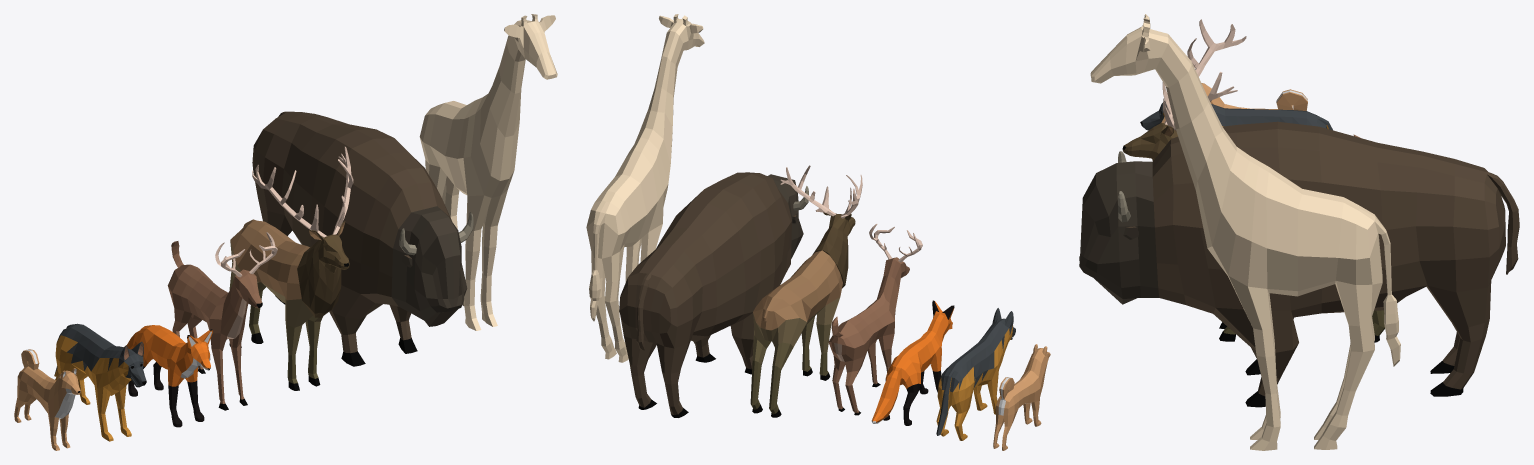
Rendered from animalsFree.fbx.
3 renders of one model, left to right at view 1: azimuth 30°, elevation 25°; view 2: azimuth 150°, elevation 25°; view 3: azimuth 270°, elevation 25°, orthographic. The views are drawn at different scales.
Visible parts, largest first — view 1: 04bizonFinal, 18girafFinal, 09deerFinal, 05deerFinal, 25dogFinal, 01foxFinal, 19dogFinal; view 2: 04bizonFinal, 18girafFinal, 09deerFinal, 05deerFinal, 25dogFinal, 01foxFinal, 19dogFinal; view 3: 04bizonFinal, 18girafFinal, 09deerFinal, 25dogFinal, 19dogFinal.
Part boxes in pixels (bbox=[...]): 04bizonFinal: bbox=[252, 111, 473, 366]; 18girafFinal: bbox=[419, 14, 557, 330]; 09deerFinal: bbox=[229, 146, 353, 390]; 05deerFinal: bbox=[167, 232, 277, 410]; 25dogFinal: bbox=[54, 323, 146, 441]; 01foxFinal: bbox=[124, 325, 212, 427]; 19dogFinal: bbox=[14, 349, 80, 450]; 04bizonFinal: bbox=[619, 172, 808, 417]; 18girafFinal: bbox=[586, 14, 704, 362]; 09deerFinal: bbox=[750, 165, 862, 417]; 05deerFinal: bbox=[828, 224, 922, 415]; 25dogFinal: bbox=[936, 308, 1015, 440]; 01foxFinal: bbox=[871, 300, 954, 425]; 19dogFinal: bbox=[993, 344, 1050, 450]; 04bizonFinal: bbox=[1079, 121, 1519, 407]; 18girafFinal: bbox=[1090, 14, 1400, 450]; 09deerFinal: bbox=[1122, 19, 1384, 342]; 25dogFinal: bbox=[1140, 101, 1332, 130]; 19dogFinal: bbox=[1201, 83, 1307, 110].
Bounding box in the file's own units: 571 × 401 × 374.
7 materials, 7 textured.
